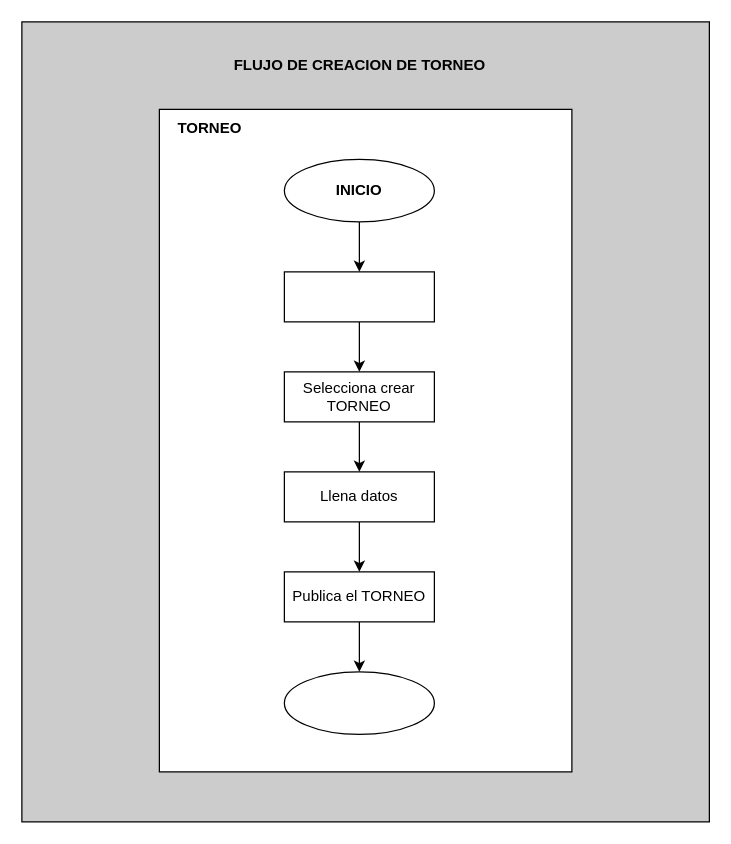
This 731x844 diagram has some shape labels left out. Each missing label, with the box of its shape:
FIN: (283, 671, 434, 734)
Se dirige a TONEOS: (283, 271, 434, 322)
